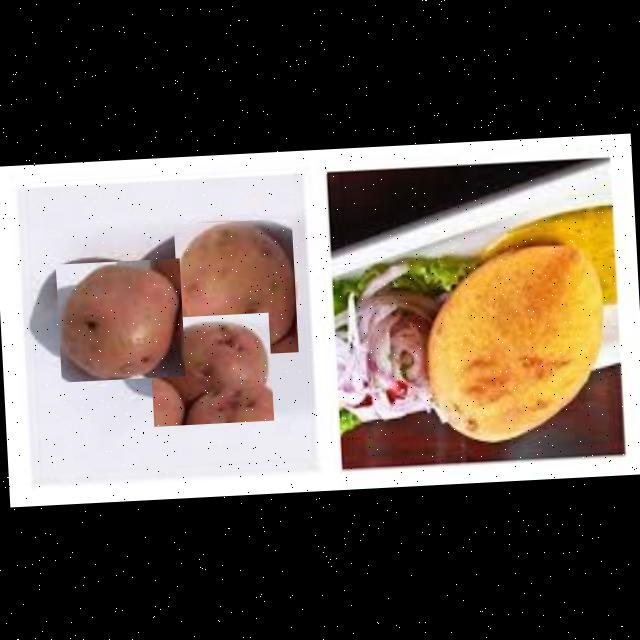Defected potato: (172, 218, 298, 358), (54, 258, 184, 382), (148, 312, 273, 426)
